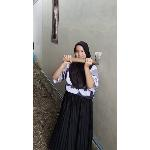Kapak: (61, 50, 105, 66)
